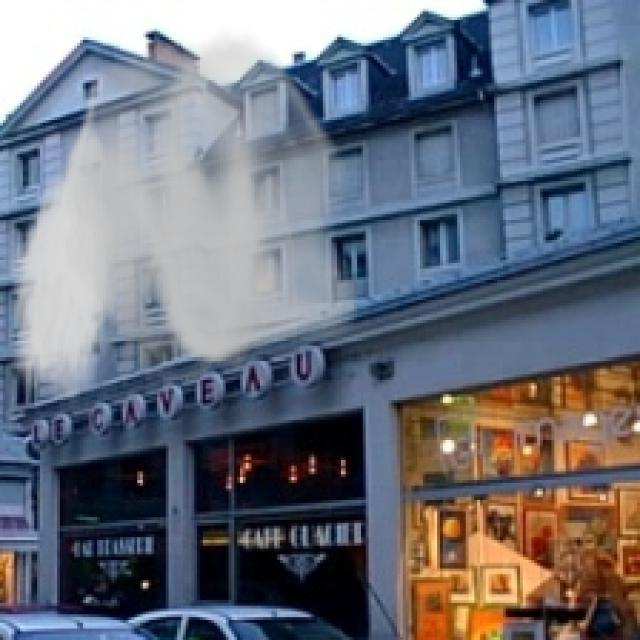Smoke: (6, 22, 357, 408)
